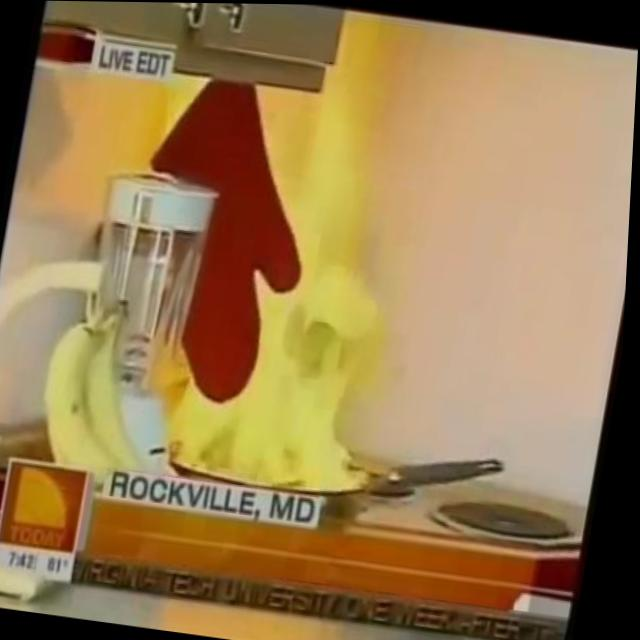fire: (163, 60, 441, 509)
